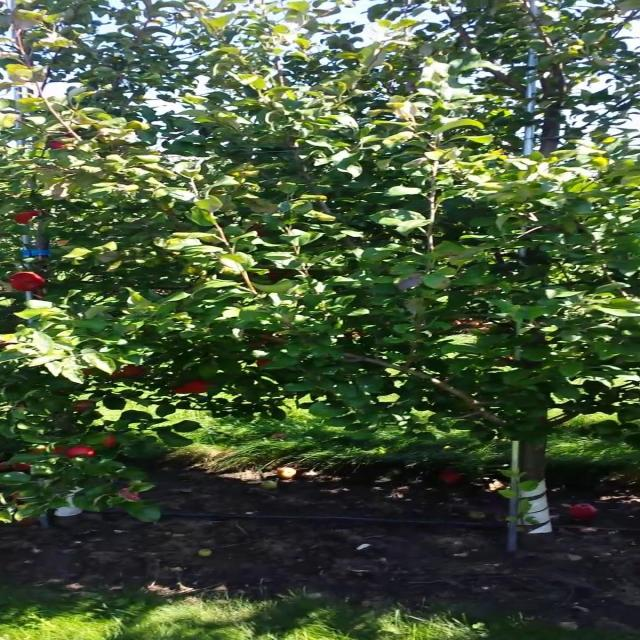apple: (13, 272, 50, 292), (113, 364, 149, 380), (184, 380, 213, 394), (13, 212, 44, 225), (70, 448, 100, 460), (77, 400, 98, 414), (49, 140, 75, 151), (170, 384, 190, 396), (106, 436, 121, 448), (255, 360, 274, 369), (13, 464, 32, 472), (49, 448, 66, 456)
